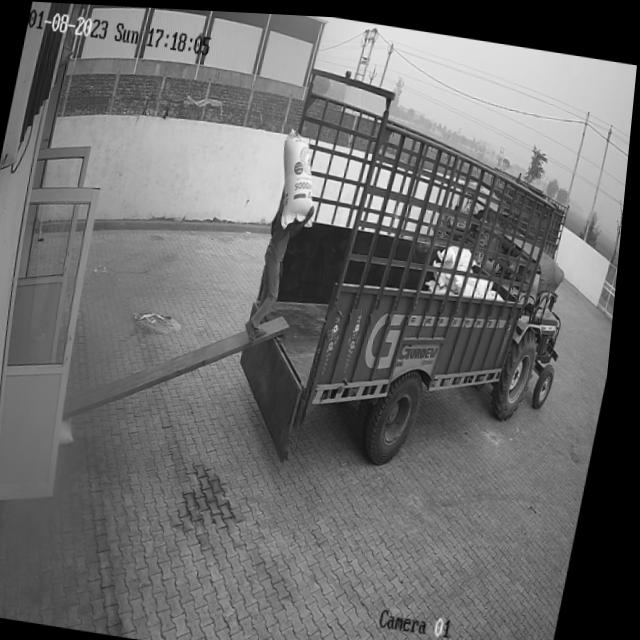sack: (271, 126, 332, 229)
